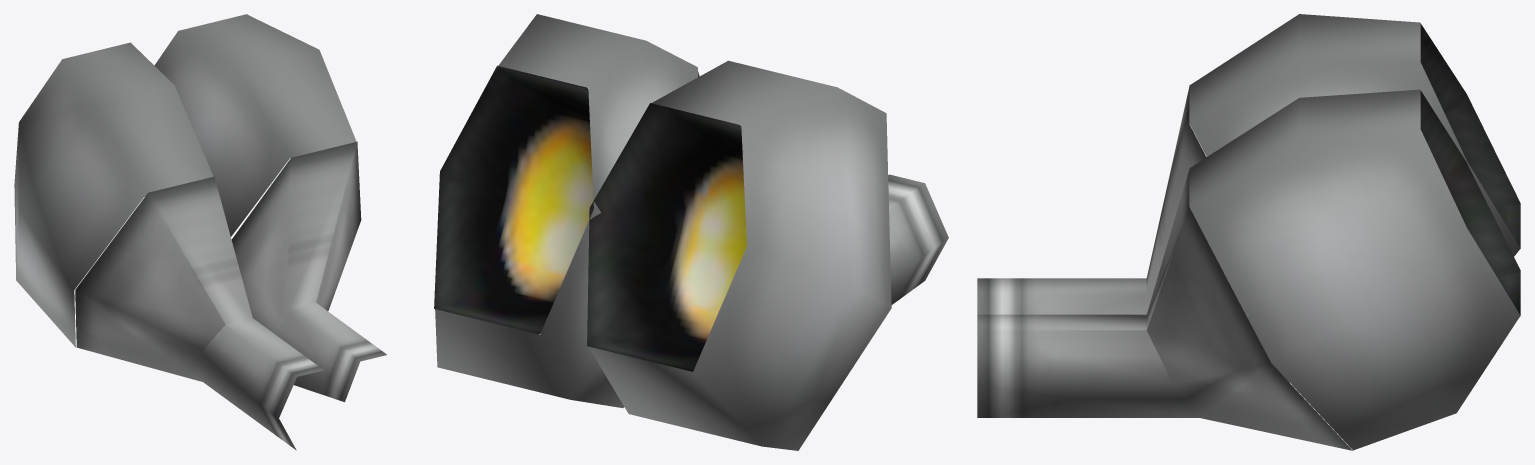
Rendered from acc_32.glb.
The picture shows the model from 3 angles, left to right: view 1: azimuth 30°, elevation 25°; view 2: azimuth 150°, elevation 25°; view 3: azimuth 270°, elevation 25°; orthographic projection. The views are drawn at different scales.
Visible parts, largest first — view 1: vertex, noshade; view 2: vertex, noshade; view 3: vertex, noshade.
Part boxes in pixels (bbox=[...]): vertex: bbox=[14, 14, 356, 347]; noshade: bbox=[75, 141, 386, 450]; vertex: bbox=[435, 14, 891, 450]; noshade: bbox=[434, 65, 948, 371]; vertex: bbox=[1189, 14, 1520, 450]; noshade: bbox=[977, 23, 1520, 450].
Size of the model in its own units: 0.3947 by 0.3237 by 0.5046.
2 materials, 2 textured.
